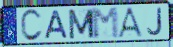A: (117, 7, 145, 39), (44, 10, 70, 41)
C: (20, 8, 44, 43)
J: (146, 7, 164, 37)
M: (90, 7, 122, 41), (67, 8, 96, 41)
